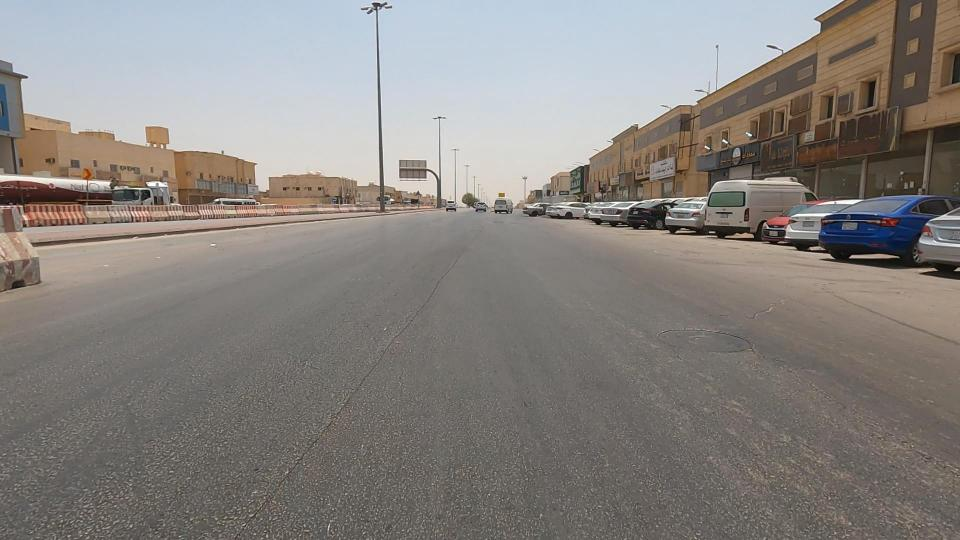BAD_BILLBOARD: (776, 116, 860, 188), (798, 103, 891, 164), (581, 158, 659, 201), (742, 126, 805, 178), (671, 137, 726, 186)
CONSTRUCTION_ROAD: (0, 169, 166, 266), (95, 188, 239, 239), (214, 187, 311, 231)
